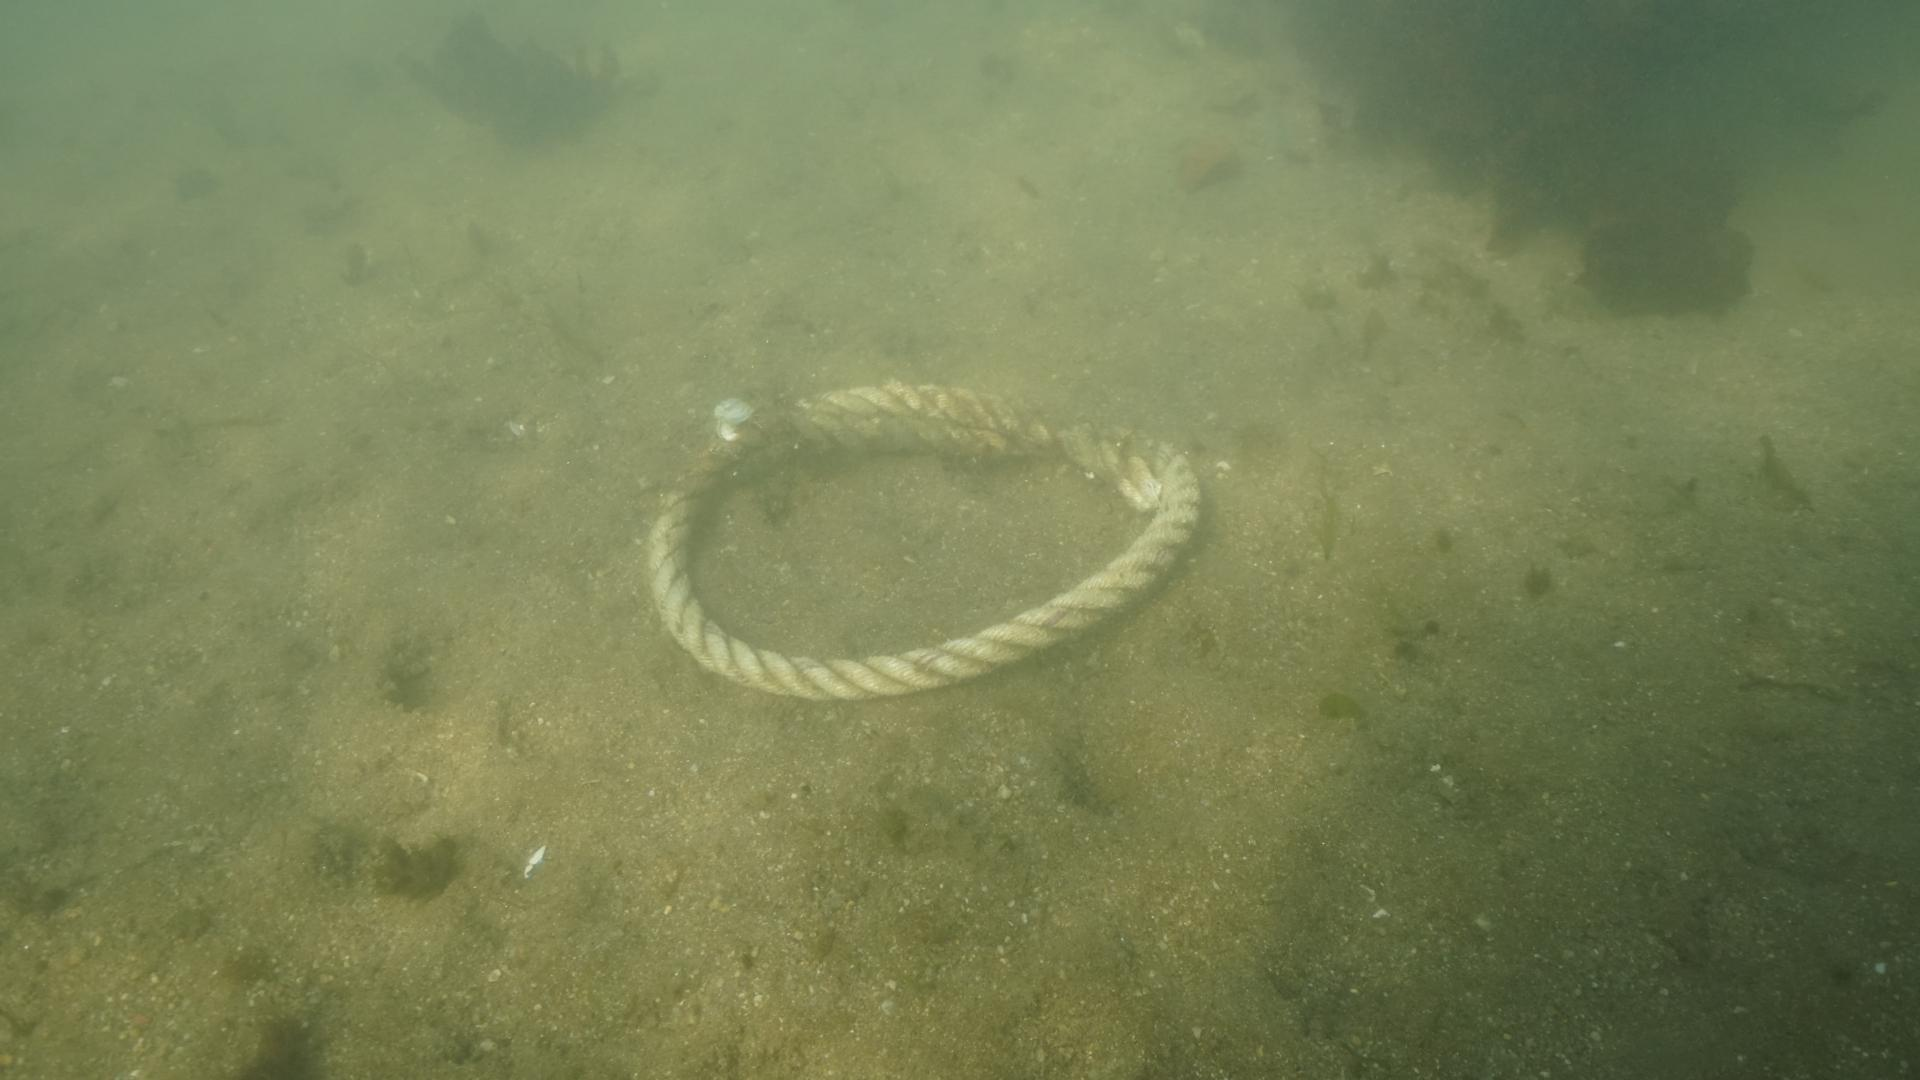bundle of ropes: (636, 376, 1199, 704)
